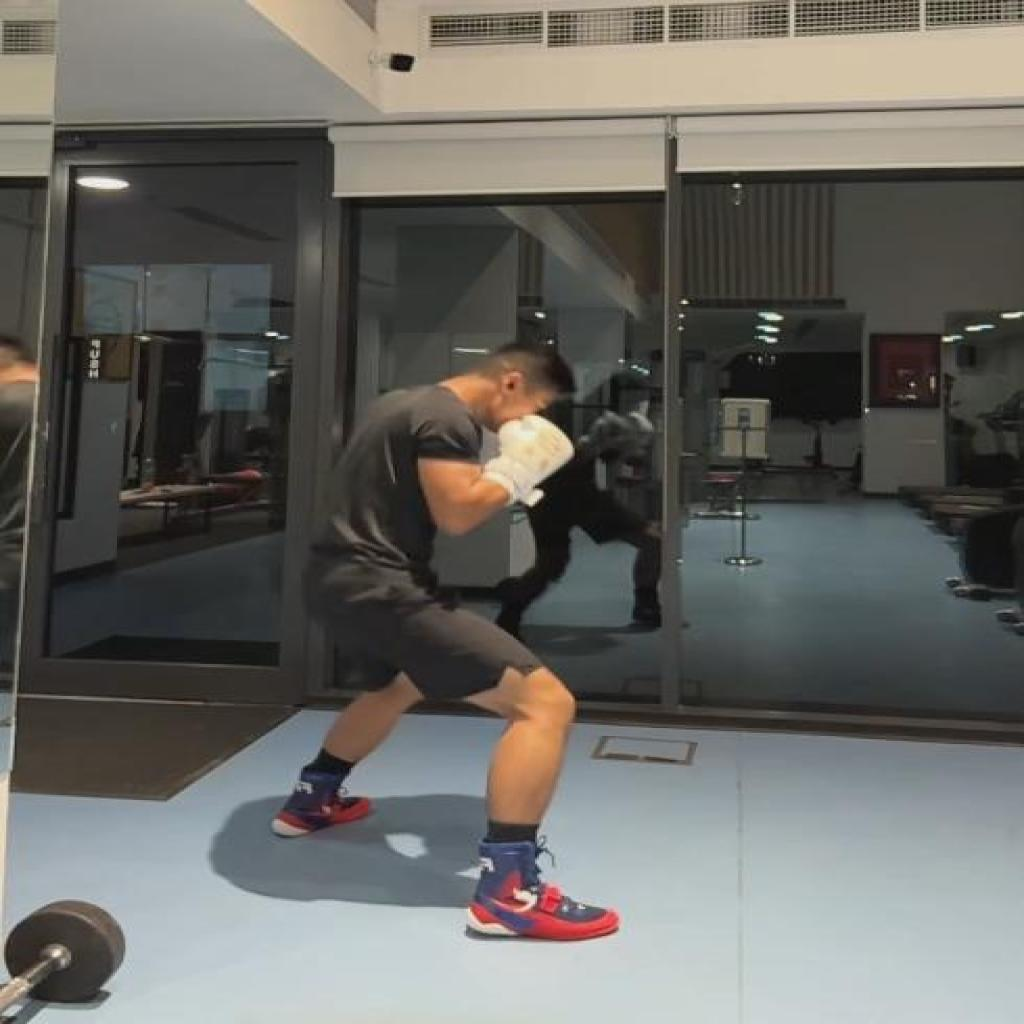no punch: (270, 338, 622, 944)
